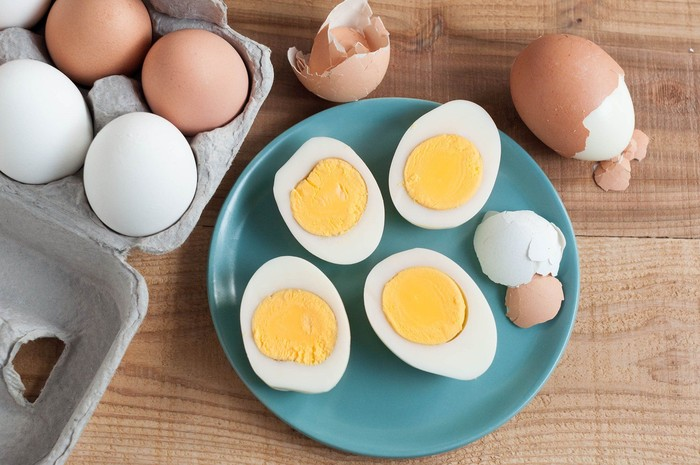Telur: (352, 246, 491, 393), (267, 130, 376, 273), (388, 105, 495, 237), (233, 256, 331, 385), (107, 121, 181, 235), (1, 73, 81, 175)
